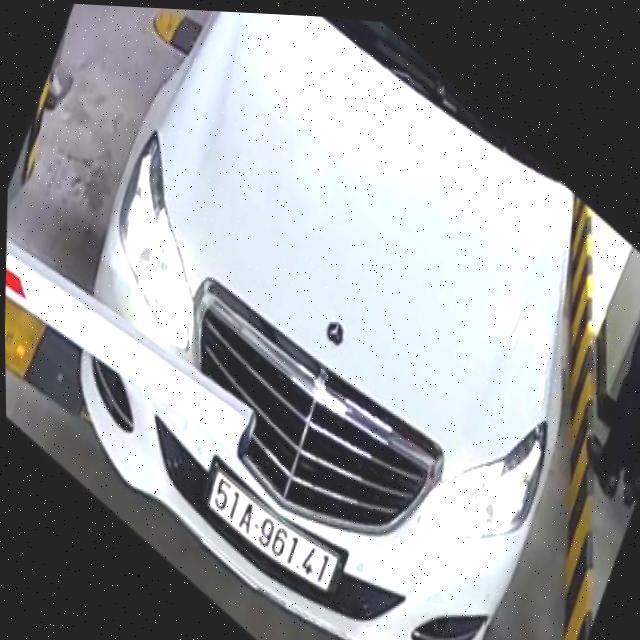car: (63, 3, 594, 640)
plate: (198, 463, 348, 598)
